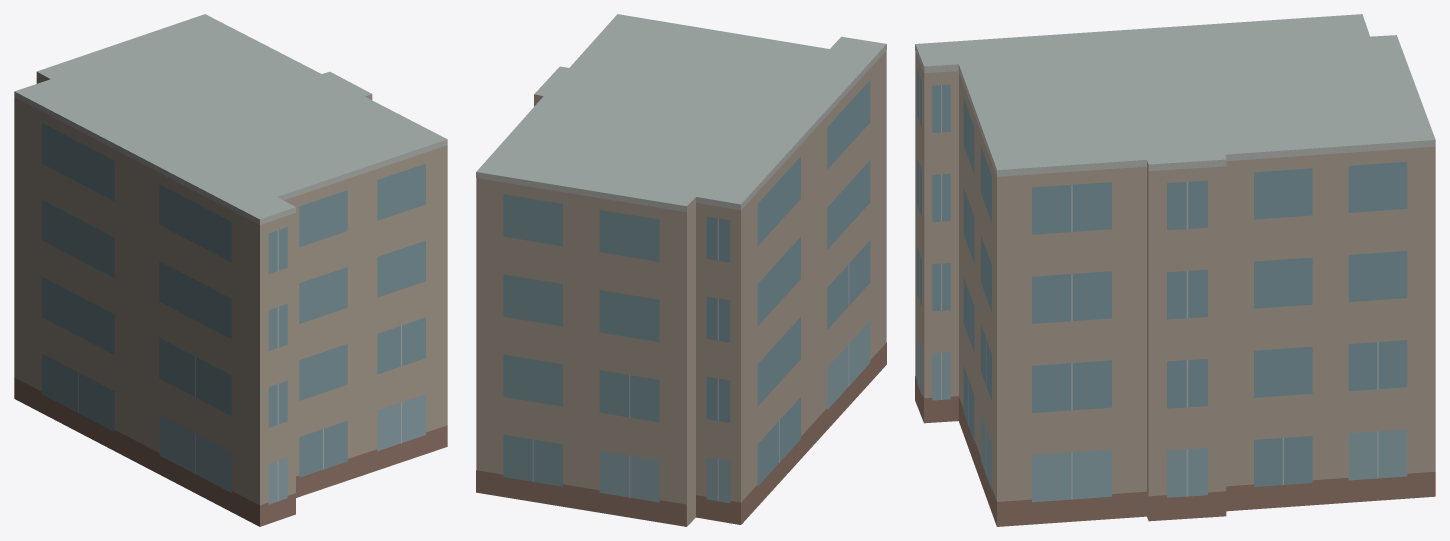
File: survey-upis-32737774.glb
3 renders of one model, left to right at view 1: azimuth 30°, elevation 25°; view 2: azimuth 150°, elevation 25°; view 3: azimuth 270°, elevation 25°, orthographic. The views are drawn at different scales.
Visible parts, largest first — view 1: survey-upis-32737774.tmp; view 2: survey-upis-32737774.tmp; view 3: survey-upis-32737774.tmp.
Part boxes in pixels (left/top/right/bottom): survey-upis-32737774.tmp: left=14, top=14, right=447, bottom=526; survey-upis-32737774.tmp: left=476, top=14, right=886, bottom=526; survey-upis-32737774.tmp: left=915, top=14, right=1435, bottom=526.
Size of the model in its own units: 12.27 by 13.05 by 17.27.
